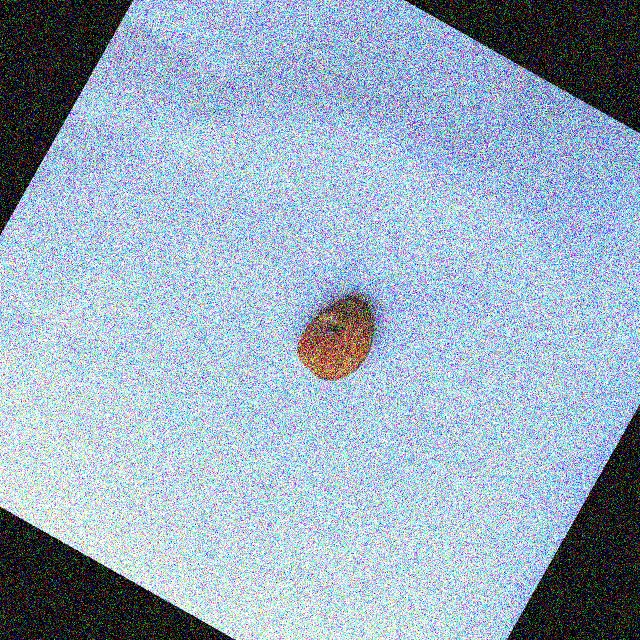grade3: (281, 275, 394, 398)
